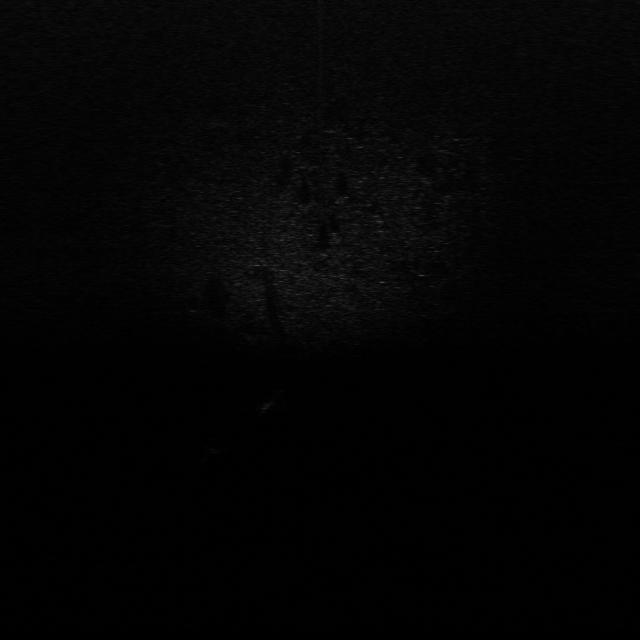ball: (198, 434, 231, 458)
human body: (252, 386, 287, 424)
